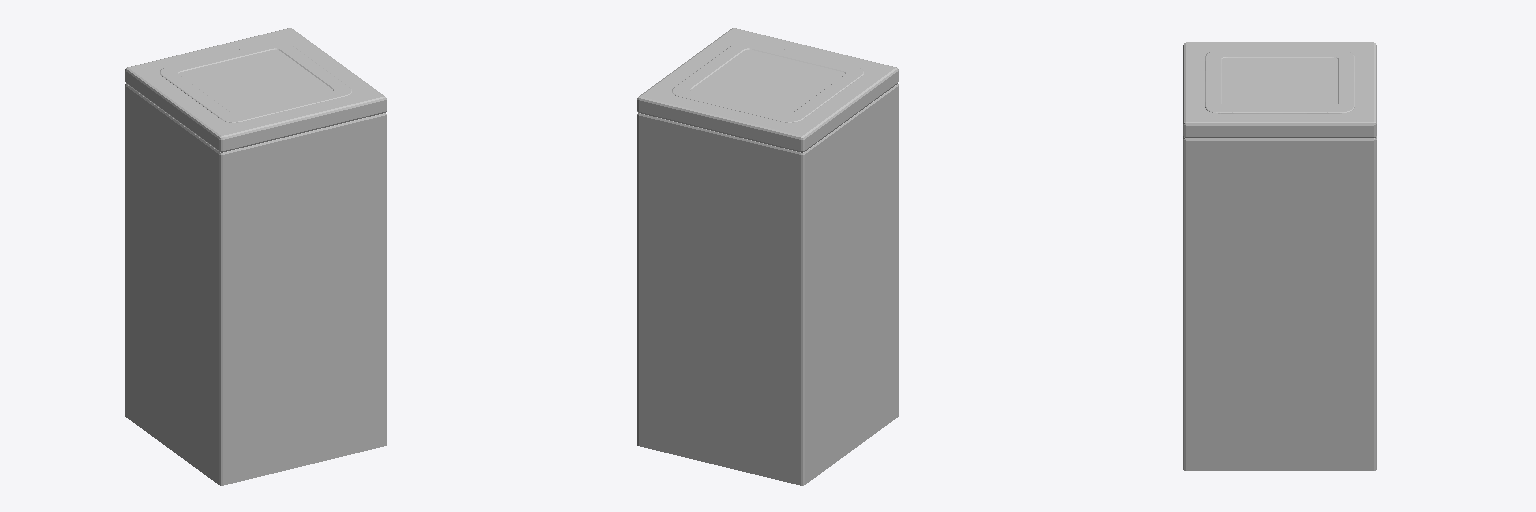
File: SM_FloorTile.obj
3 views of the same model, side by side, from view 1: azimuth 30°, elevation 25°; view 2: azimuth 150°, elevation 25°; view 3: azimuth 270°, elevation 25° (orthographic).
Visible parts, largest first — view 1: FloorTile FloorTile_grp STRUCTURE, FloorTile_grp STRUCTURE FloorTile1, FloorTile_grp STRUCTURE FloorGrid; view 2: FloorTile FloorTile_grp STRUCTURE, FloorTile_grp STRUCTURE FloorTile1, FloorTile_grp STRUCTURE FloorGrid; view 3: FloorTile FloorTile_grp STRUCTURE, FloorTile_grp STRUCTURE FloorTile1, FloorTile_grp STRUCTURE FloorGrid.
Boxes of the visible parts, x1,y1,x2,y2 form: FloorTile FloorTile_grp STRUCTURE: [125, 84, 386, 485]; FloorTile_grp STRUCTURE FloorTile1: [125, 28, 386, 152]; FloorTile_grp STRUCTURE FloorGrid: [160, 41, 351, 122]; FloorTile FloorTile_grp STRUCTURE: [637, 84, 898, 485]; FloorTile_grp STRUCTURE FloorTile1: [637, 28, 898, 152]; FloorTile_grp STRUCTURE FloorGrid: [672, 41, 863, 122]; FloorTile FloorTile_grp STRUCTURE: [1183, 136, 1376, 470]; FloorTile_grp STRUCTURE FloorTile1: [1183, 42, 1376, 137]; FloorTile_grp STRUCTURE FloorGrid: [1205, 50, 1354, 113].
Size of the model in its own units: 2 by 3.99 by 2.